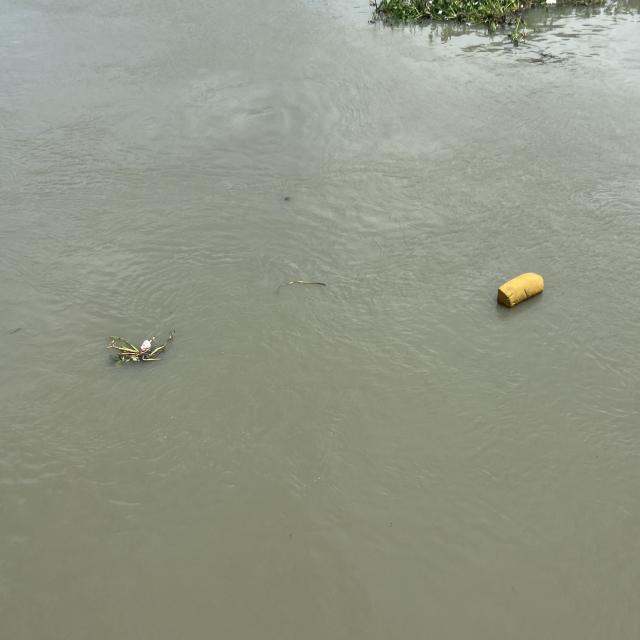Foamed Plastic: (495, 260, 553, 314), (544, 0, 559, 9)
Organic Debris: (360, 0, 613, 52), (105, 329, 178, 365), (272, 272, 328, 295)
Sanitary Waste: (138, 337, 153, 350)
